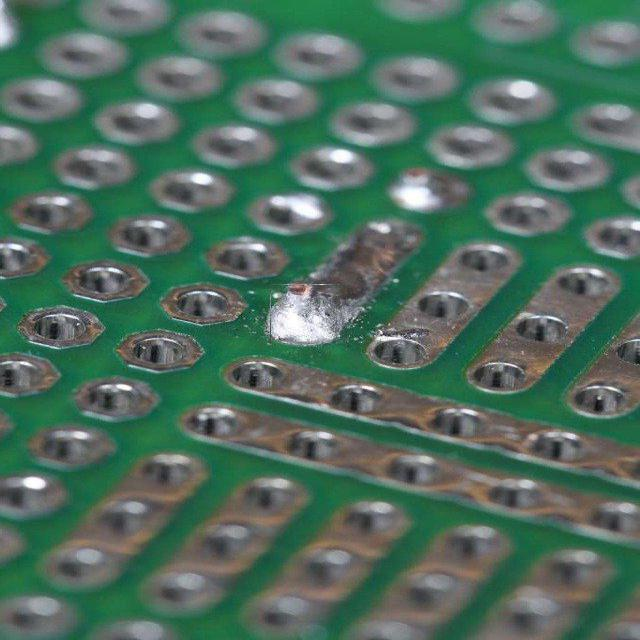redundant: (270, 284, 340, 343)
